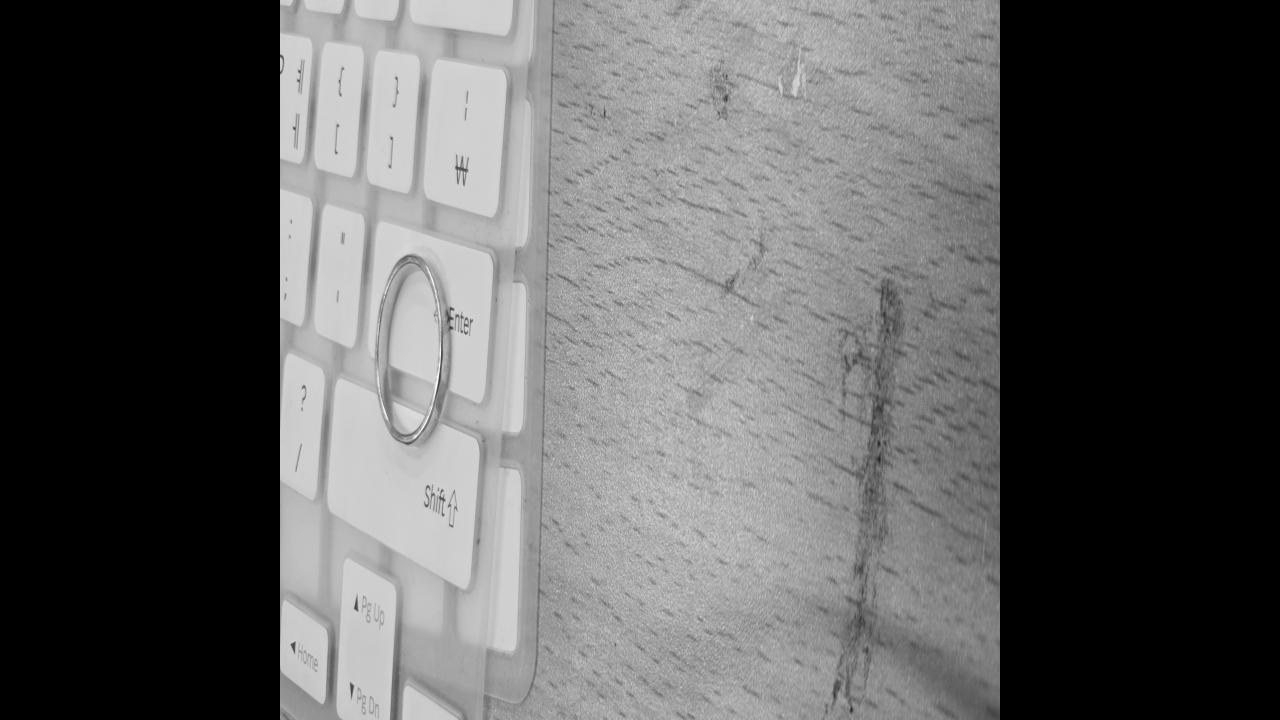ring: (373, 252, 453, 451)
